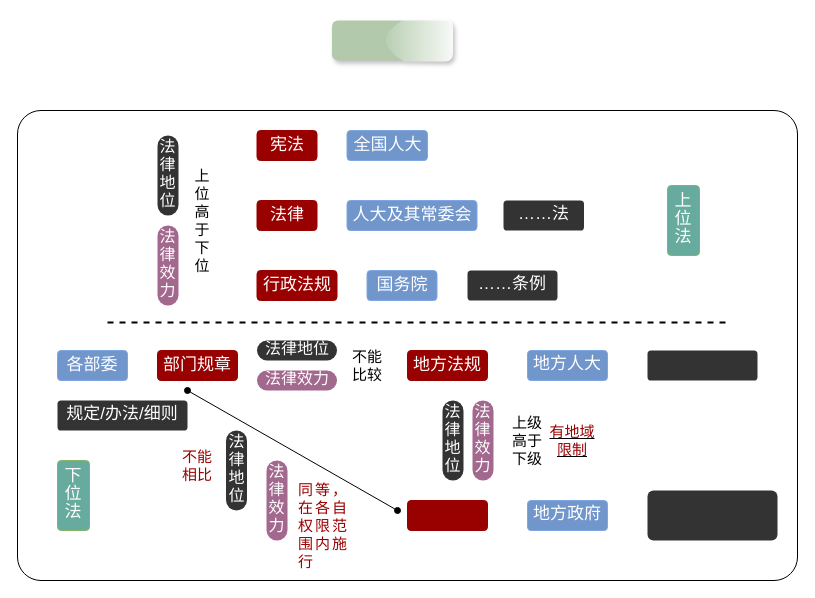
Some shapes in this 815 by 598 pixel diagram are drawn without their labels. The shapes that lost their labels are listed below. From the top down, each one's centre as x and y in pixels, then its label:
[392,41]: 基础知识
[702,365]: …地方…条例
[447,515]: 地方规章
[712,515]: …地方 规定/办法/细则
